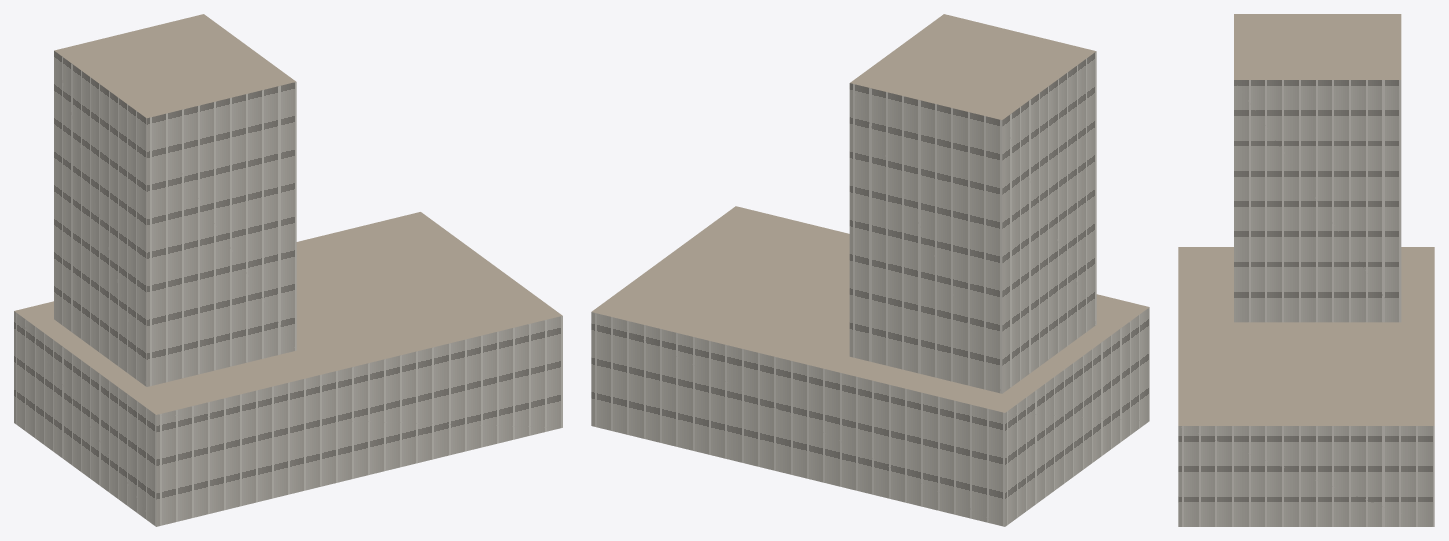
File: multipart-complex.glb
3 renders of one model, left to right at view 1: azimuth 30°, elevation 25°; view 2: azimuth 150°, elevation 25°; view 3: azimuth 270°, elevation 25°, orthographic. The views are drawn at different scales.
Parts seen in each view (by area): view 1: Multipart complex; view 2: Multipart complex; view 3: Multipart complex.
Boxes of the visible parts, x1=… form: Multipart complex: x1=14, y1=14, x2=562, y2=526; Multipart complex: x1=591, y1=14, x2=1149, y2=526; Multipart complex: x1=1178, y1=14, x2=1434, y2=526.
Size of the model in its own units: 38 by 34 by 23.
2 materials, 1 textured.
